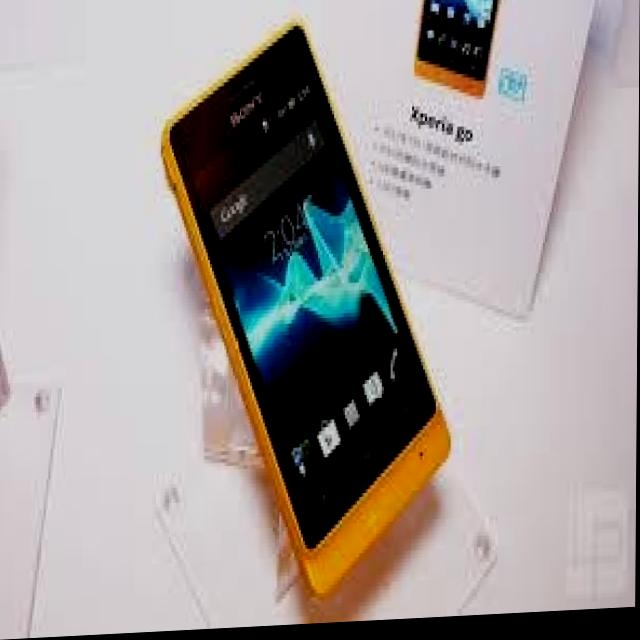Smartphone: (145, 6, 467, 627)
